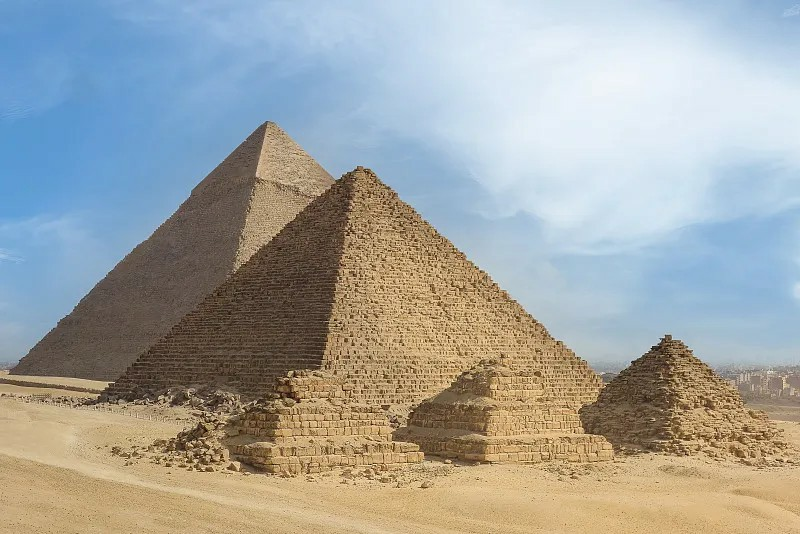Pyramid: (100, 167, 608, 425), (7, 120, 335, 377), (399, 355, 615, 464), (588, 337, 784, 454), (216, 371, 423, 478)
